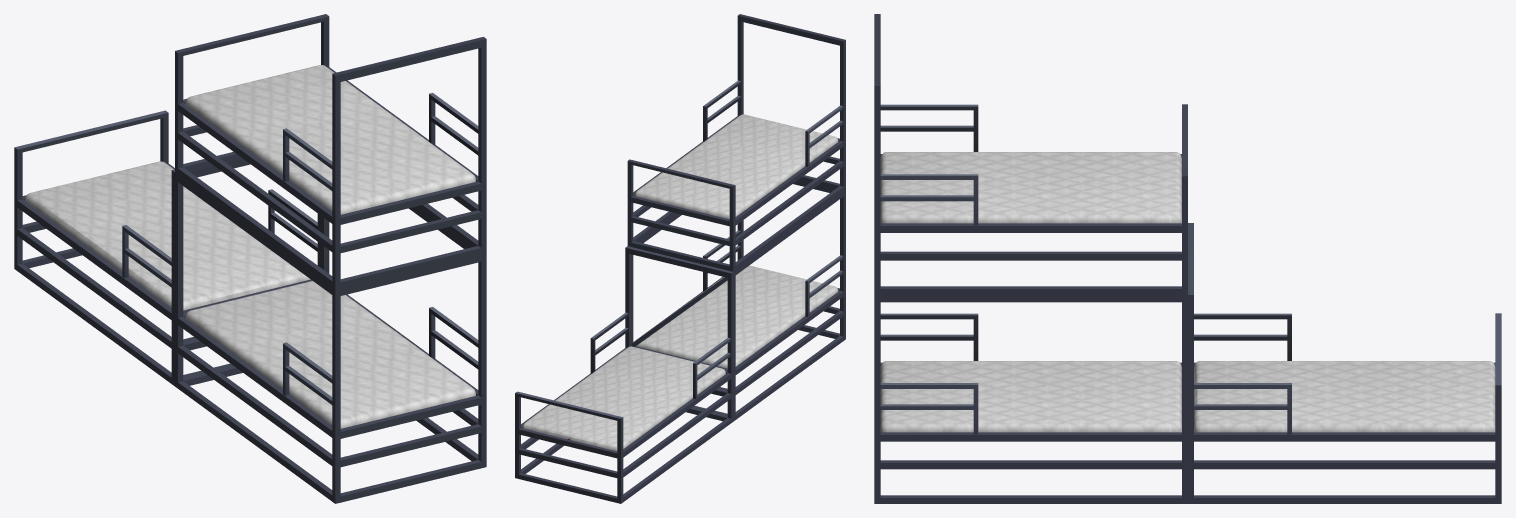
The model's file is squidgame_props_bed2.fbx.
The picture shows the model from 3 angles, left to right: view 1: azimuth 30°, elevation 25°; view 2: azimuth 150°, elevation 25°; view 3: azimuth 270°, elevation 25°; orthographic projection. The views are drawn at different scales.
Visible parts, largest first — view 1: squidgame_props_bed2; view 2: squidgame_props_bed2; view 3: squidgame_props_bed2.
Boxes of the visible parts, <box> form: squidgame_props_bed2: <box>14,14,486,503</box>; squidgame_props_bed2: <box>515,14,845,503</box>; squidgame_props_bed2: <box>874,14,1501,503</box>.
Size of the model in its own units: 1.11 by 3 by 4.08.
